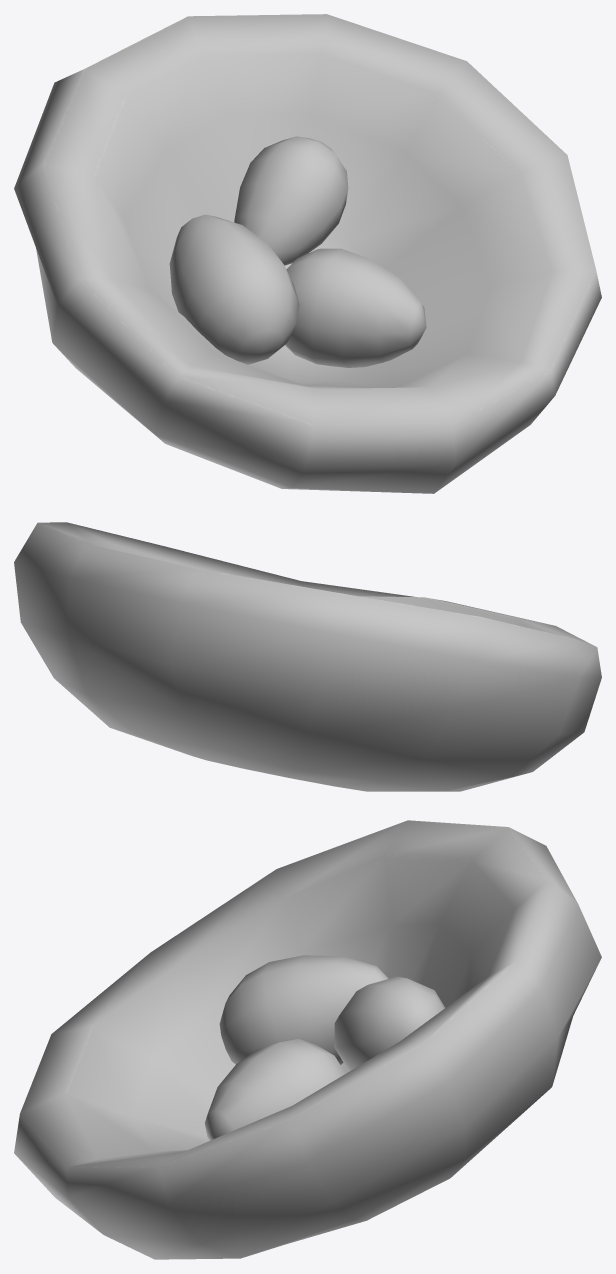
File: Nest.glb
The picture shows the model from 3 angles, top to bottom: view 1: azimuth 30°, elevation 25°; view 2: azimuth 150°, elevation 25°; view 3: azimuth 270°, elevation 25°; orthographic projection. The views are drawn at different scales.
Visible parts, largest first — view 1: node_id42, node_id40, node_id44; view 2: node_id42; view 3: node_id42, node_id40, node_id44.
Boxes of the visible parts, x1,y1,x2,y2 form: node_id42: [14, 14, 601, 493]; node_id40: [169, 136, 348, 364]; node_id44: [285, 248, 426, 367]; node_id42: [14, 522, 601, 791]; node_id42: [14, 820, 601, 1259]; node_id40: [219, 955, 445, 1070]; node_id44: [204, 1039, 345, 1140].
Size of the model in its own units: 0.5079 by 0.301 by 0.483.
3 materials, 3 textured.
